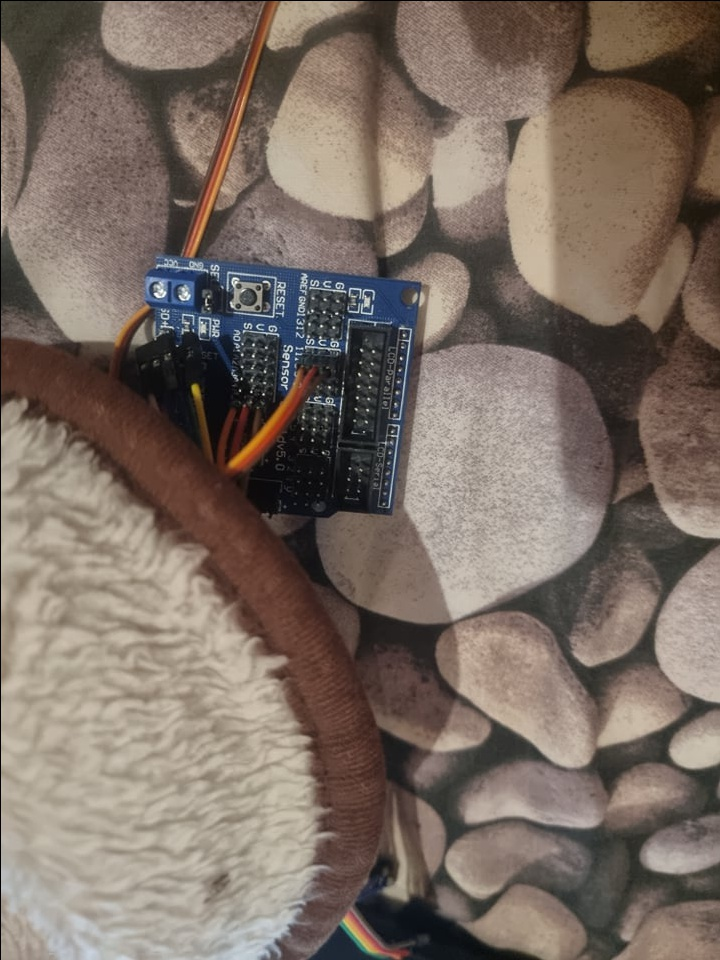5V EXPANSION: (142, 253, 427, 513)
